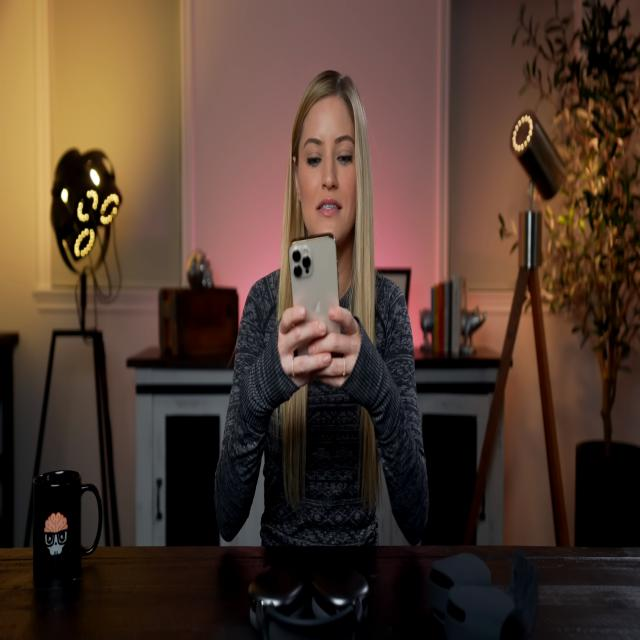Headphone: (247, 557, 371, 640)
